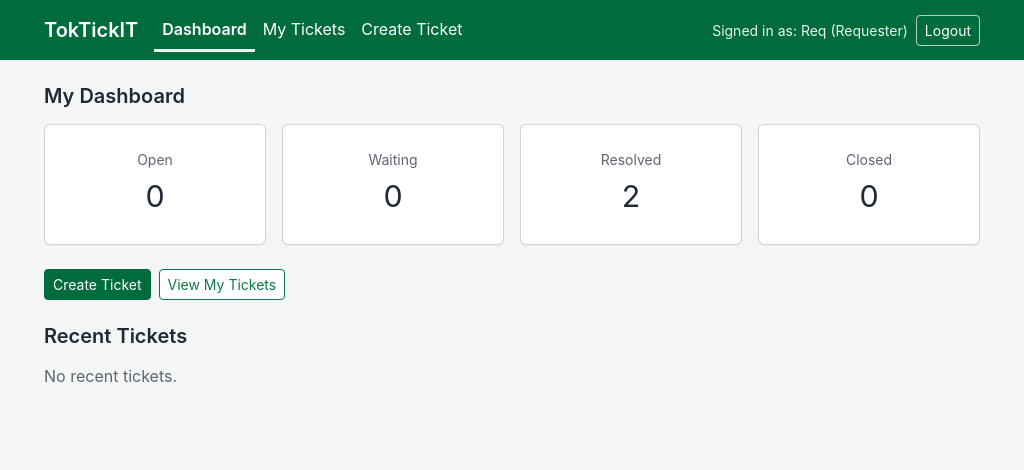
Scenario: Dashboard card to list drill-down (FR-10) › Requester: clicking a card opens My Tickets filtered by that status, and the server total equals the card count
This screenshot has width=1024, height=470.
Click the link "Resolved 2": (631, 184) [520, 124, 742, 245]
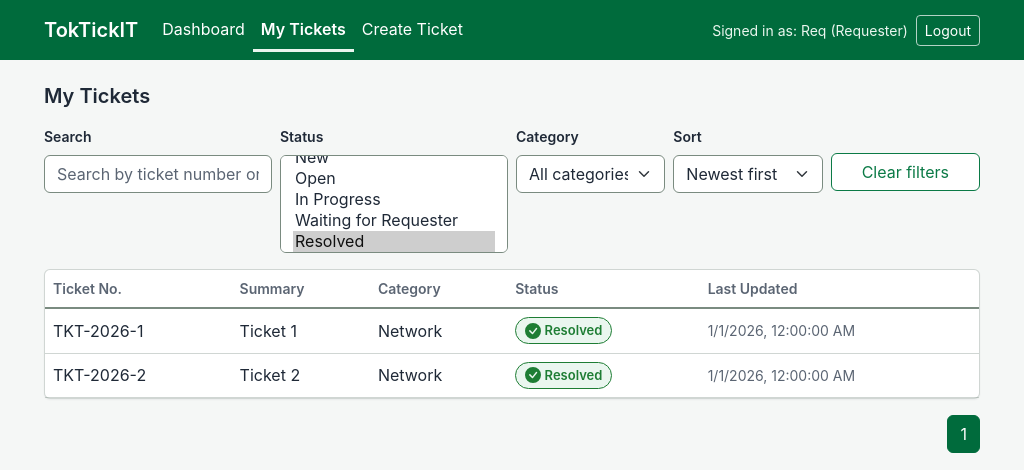
Now the heading "My Tickets" is shown, box [44, 84, 150, 108]
